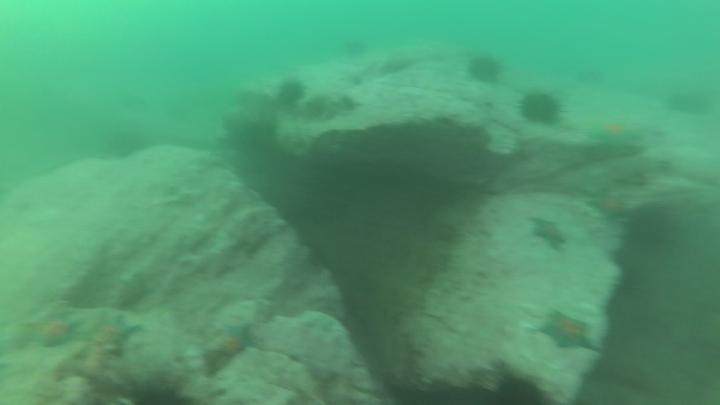echinus: (111, 375, 221, 405), (514, 90, 568, 132), (608, 249, 645, 299), (496, 371, 545, 405), (464, 53, 505, 88), (666, 88, 712, 118), (273, 78, 311, 114), (108, 131, 150, 160), (341, 37, 371, 59)
starfish: (77, 313, 146, 366), (535, 307, 603, 357), (26, 307, 85, 352), (585, 186, 637, 227), (213, 319, 259, 363), (590, 121, 645, 153), (527, 214, 569, 254)
